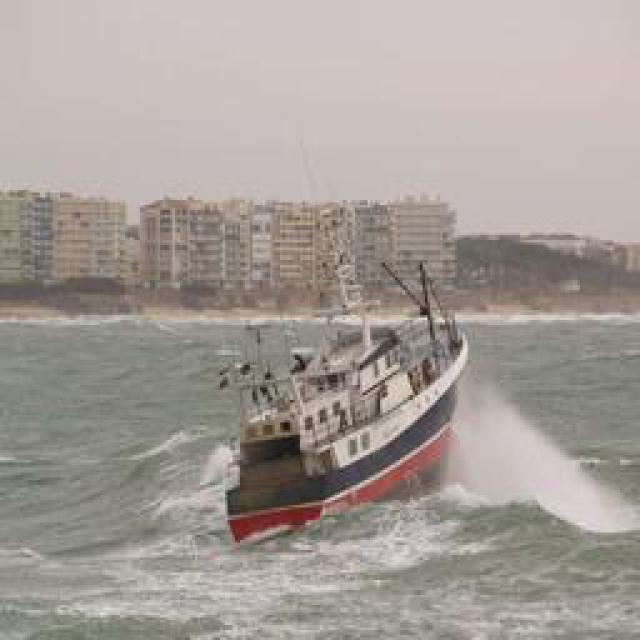Ship: (216, 302, 471, 552)
